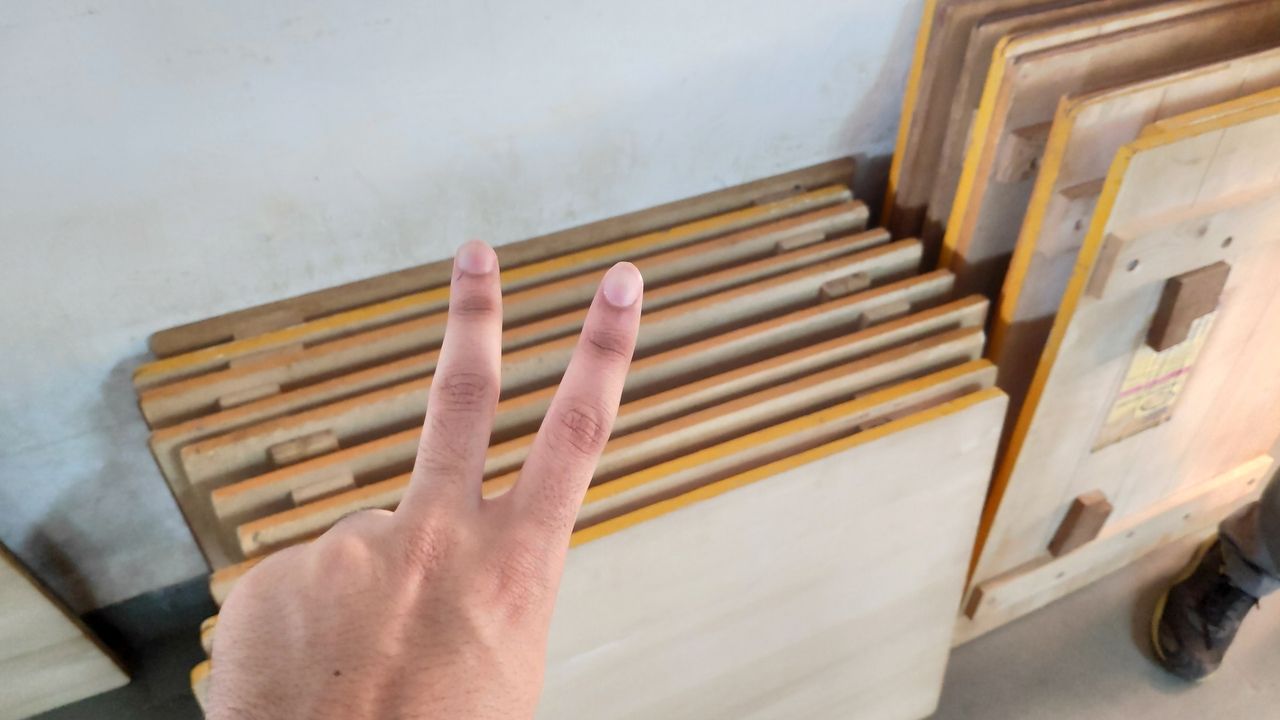fingertip: (582, 256, 654, 322), (438, 230, 502, 294)
